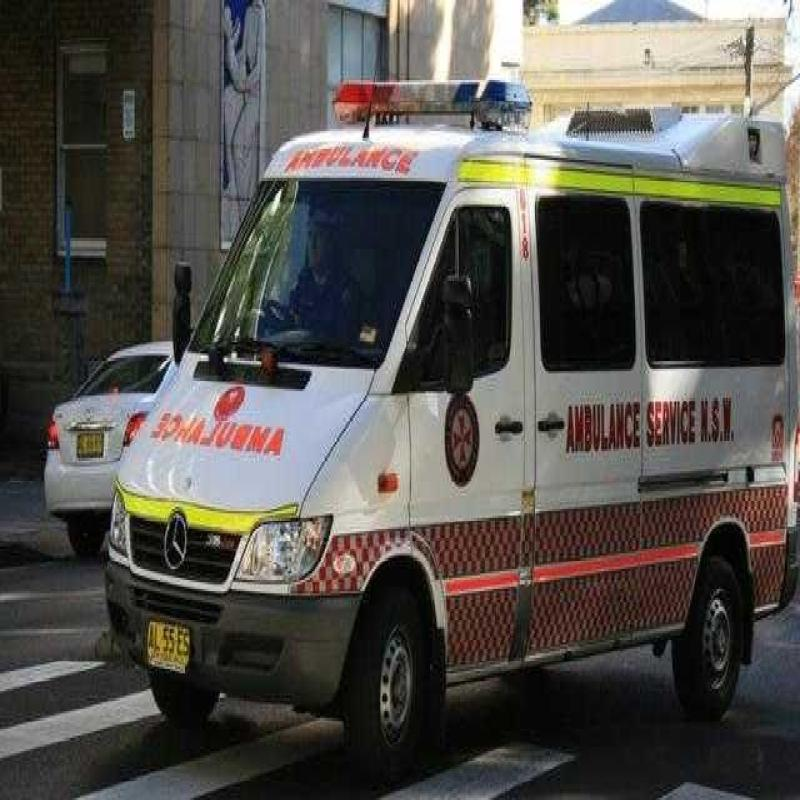AmbulanceSiren: (318, 32, 537, 144)
